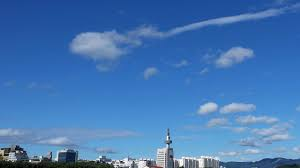sky: (1, 1, 298, 155)
